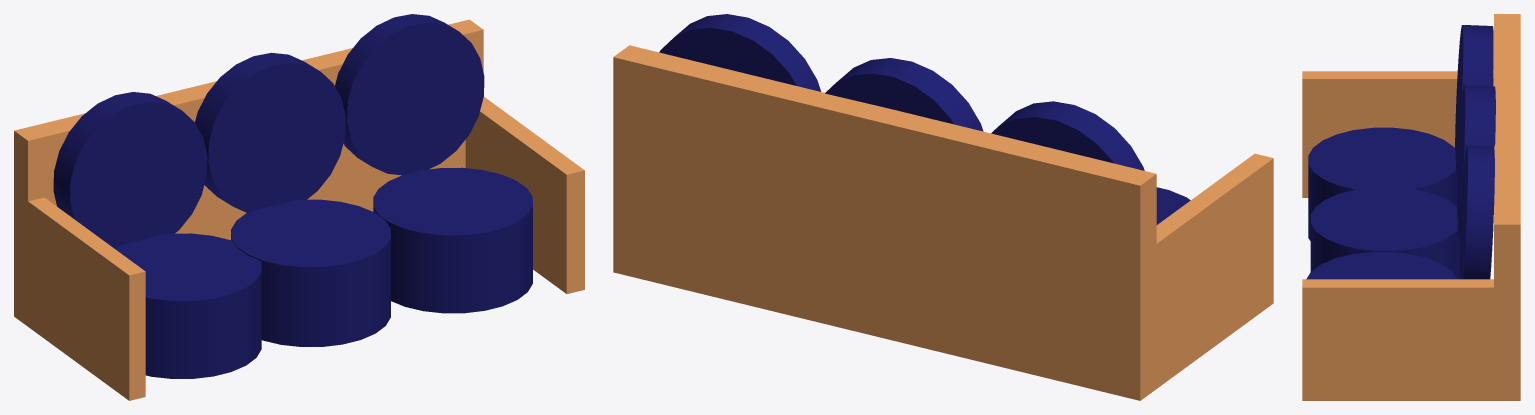
The model's file is FothergillCouch.dae.
3 views of the same model, side by side, from view 1: azimuth 30°, elevation 25°; view 2: azimuth 150°, elevation 25°; view 3: azimuth 270°, elevation 25° (orthographic). The views are drawn at different scales.
Visible parts, largest first — view 1: SketchUp (×7); view 2: SketchUp (×5); view 3: SketchUp (×7).
Boxes of the visible parts, box(x1,y1,x2,y2) form: SketchUp (×7): box(14, 14, 584, 400); SketchUp (×5): box(613, 14, 1273, 400); SketchUp (×7): box(1302, 14, 1520, 400).
Bounding box in the file's own units: 93.56 × 41 × 43.43.
